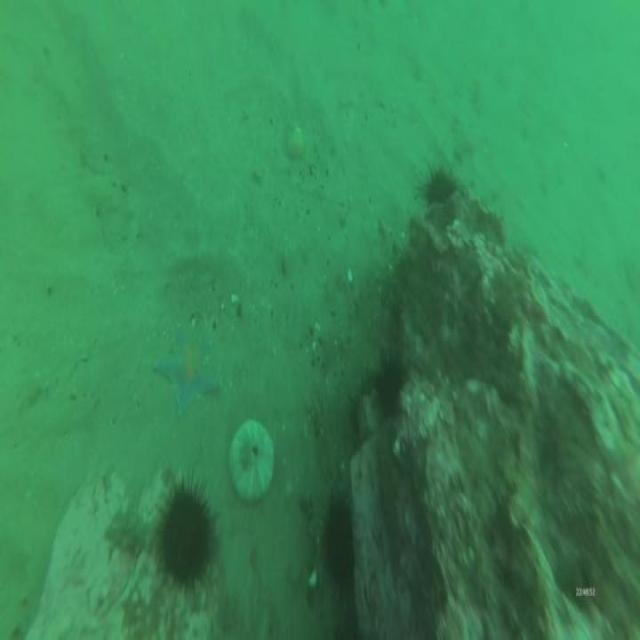echinus: (152, 477, 222, 601), (314, 493, 360, 591), (370, 339, 410, 424), (416, 154, 463, 214)
starfish: (151, 319, 226, 419)
